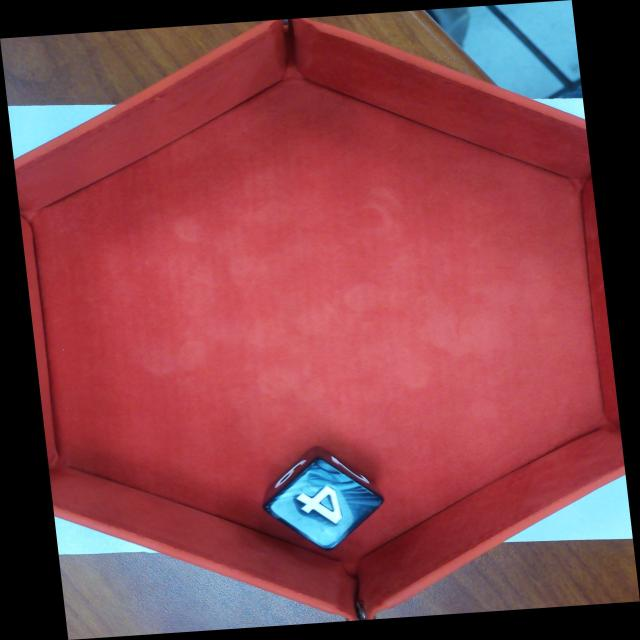dice: (267, 458, 389, 550)
